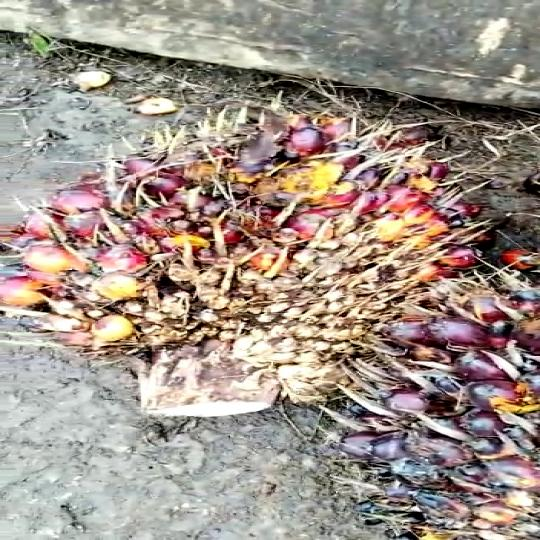masak: (0, 100, 513, 413), (324, 255, 540, 540)
